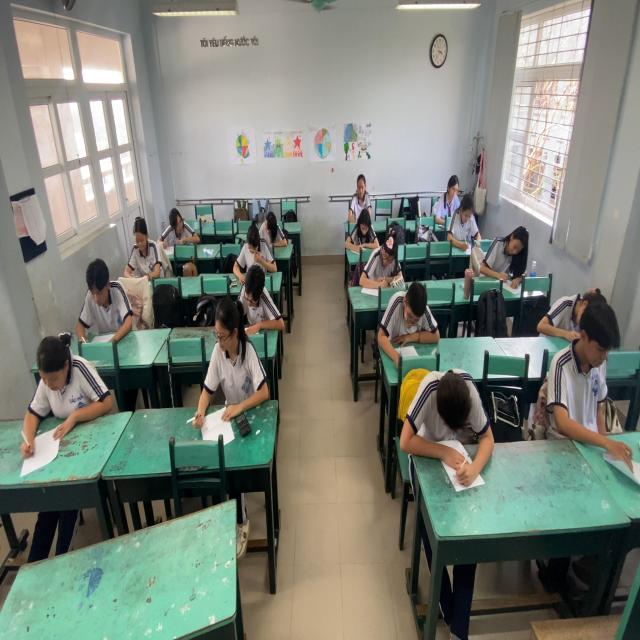cheating: (160, 192, 191, 256), (258, 208, 284, 251)
not_cheating: (560, 288, 628, 466), (400, 357, 488, 490), (21, 329, 107, 433), (205, 295, 265, 413), (71, 241, 130, 345), (378, 266, 436, 364), (483, 210, 532, 292), (236, 262, 286, 333), (544, 272, 593, 340), (125, 210, 158, 288), (361, 220, 400, 282), (450, 188, 481, 254), (236, 218, 273, 273), (345, 200, 382, 250), (436, 170, 458, 226), (347, 169, 371, 213)
